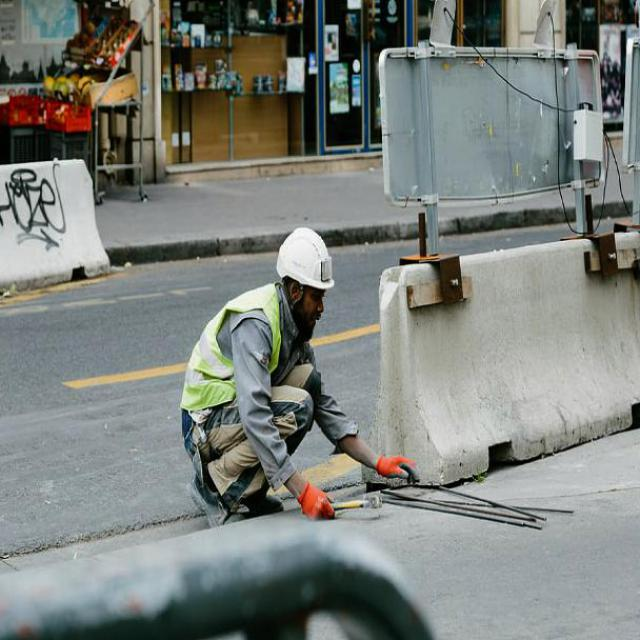gloves: (285, 474, 348, 530), (368, 444, 425, 482)
helmet: (269, 215, 339, 334)
vest: (160, 283, 281, 421)
